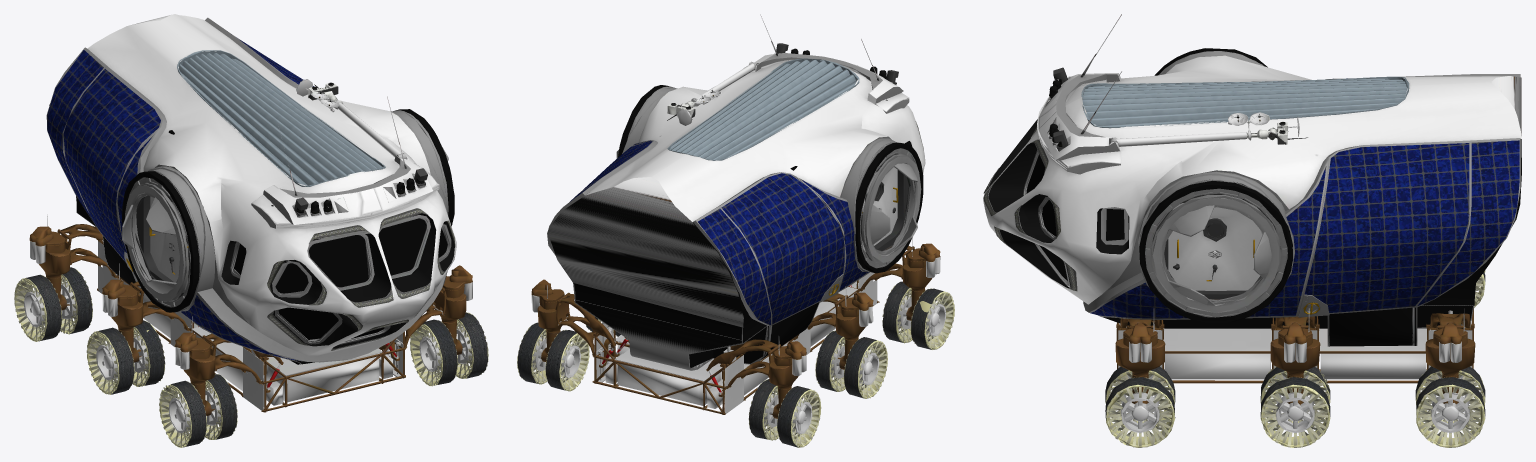
The model's file is rover.glb.
The picture shows the model from 3 angles, left to right: view 1: azimuth 30°, elevation 25°; view 2: azimuth 150°, elevation 25°; view 3: azimuth 270°, elevation 25°; orthographic projection. The views are drawn at different scales.
Visible parts, largest first — view 1: MMSEV; view 2: MMSEV; view 3: MMSEV.
Part boxes in pixels (x1=…): MMSEV: x1=14, y1=14, x2=488, y2=447; MMSEV: x1=517, y1=14, x2=954, y2=447; MMSEV: x1=983, y1=14, x2=1521, y2=447.
Size of the model in its own units: 4.04 by 3.97 by 5.91.
Materials: 1 (1 with a texture image).
